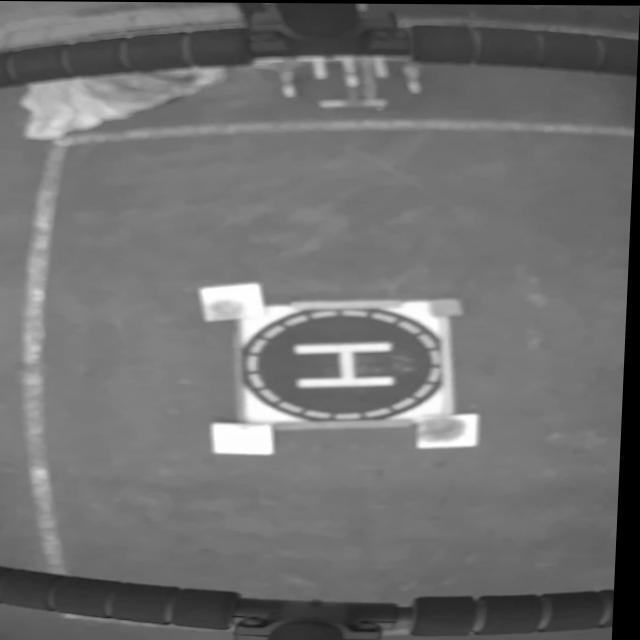Helipad: (297, 337, 399, 385)
